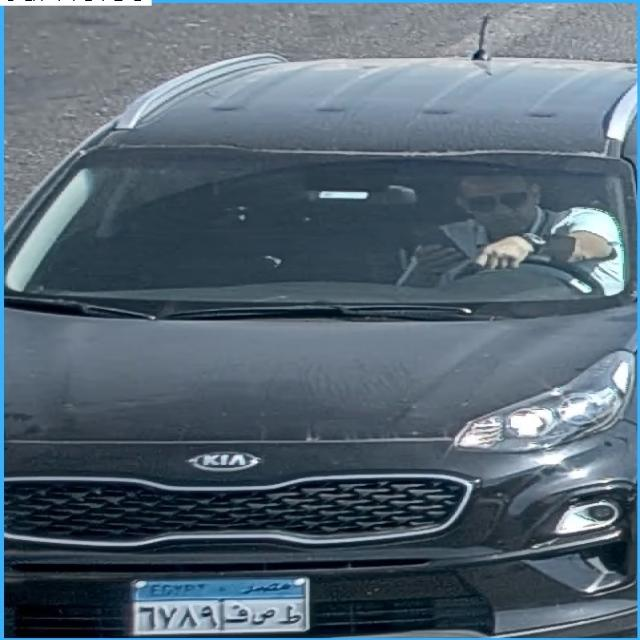windshield: (4, 150, 640, 302)
